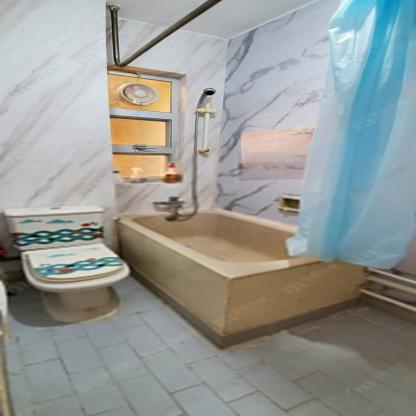Bathtub: (117, 207, 365, 348)
Exhaust Fan: (115, 79, 161, 107)
Toilet: (4, 204, 130, 324)
